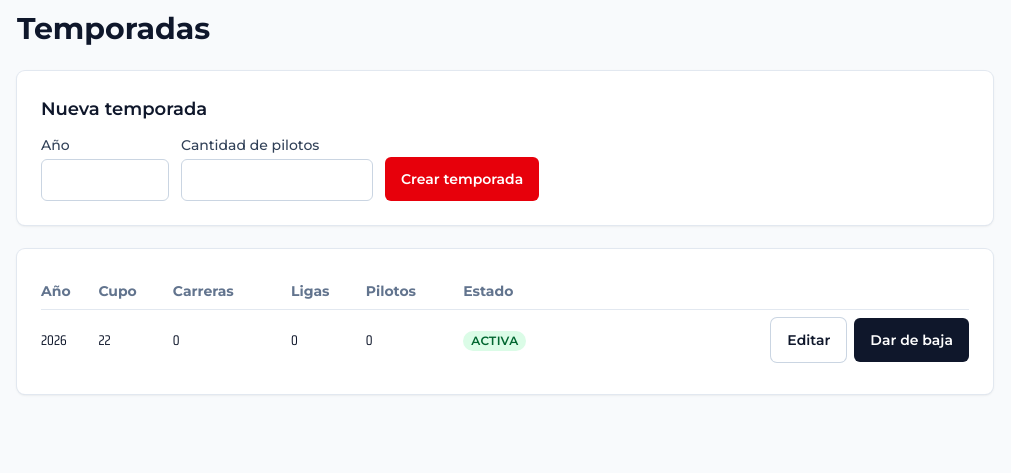
SeasonsPage › crea una temporada y la muestra en el listado
The image size is (1011, 473).
Expected: the text "2026" is shown, 41,310 -> 98,370
In the number field labelled "Año": (105, 180) 41,159 -> 169,201, type "2027"
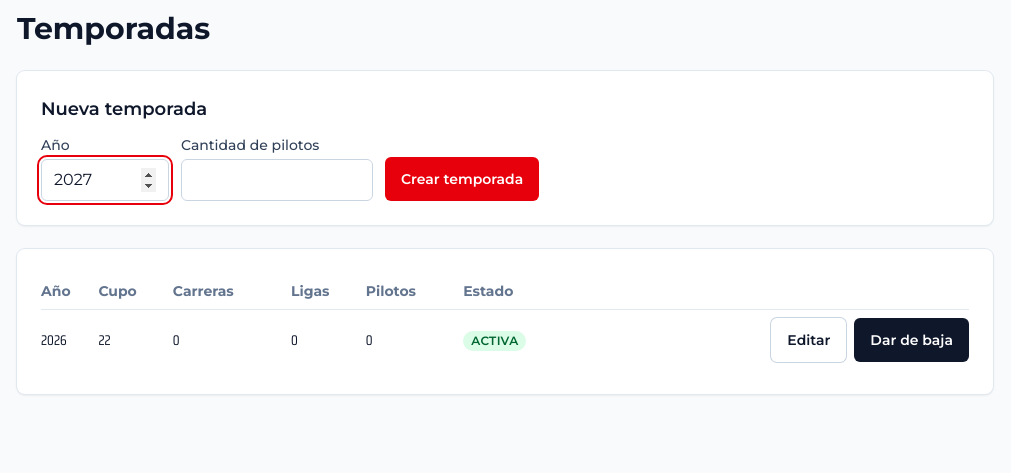
In the number field labelled "Cantidad de pilotos": (277, 180) 181,159 -> 373,201, type "20"
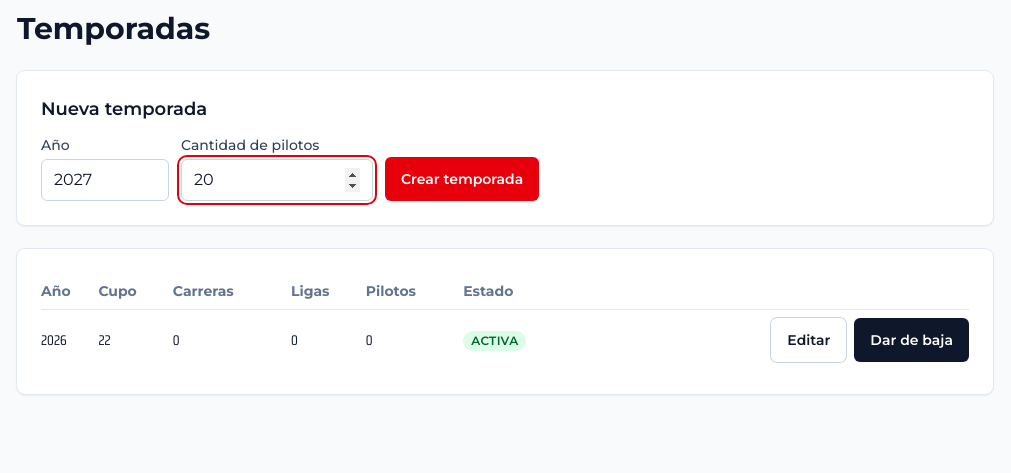
Click the button "Crear temporada": (462, 179) 385,157 -> 539,201
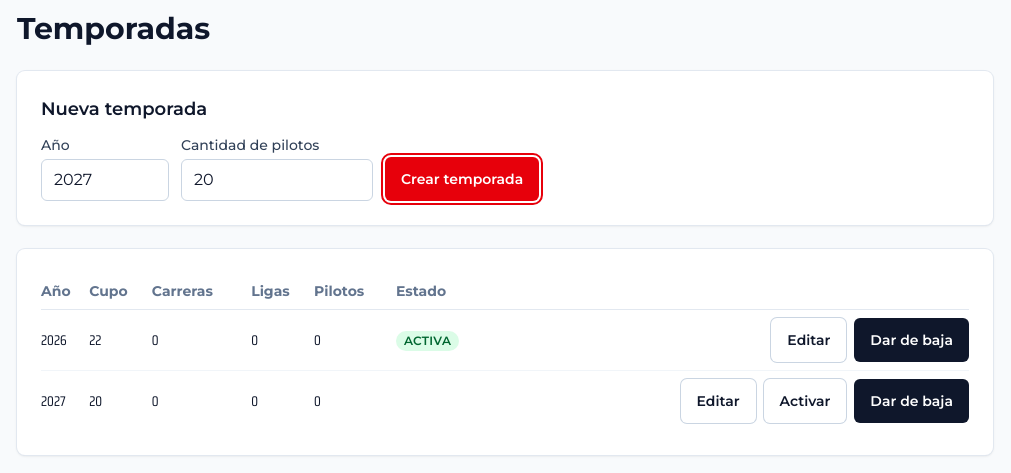
Expected: the text "2027" is shown, 41,370 -> 89,431
